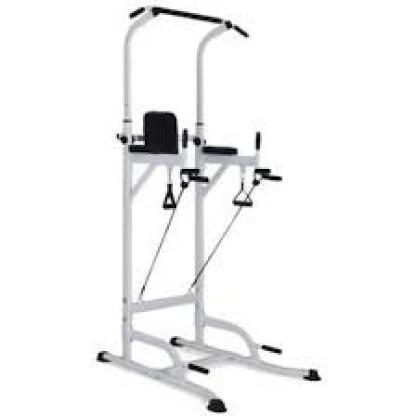chinning dipping: (96, 3, 323, 413)
